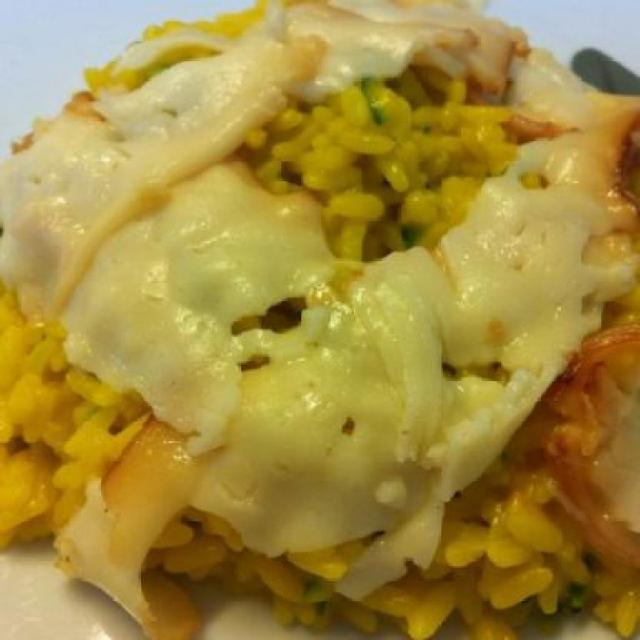Risotto: (1, 11, 624, 626)
